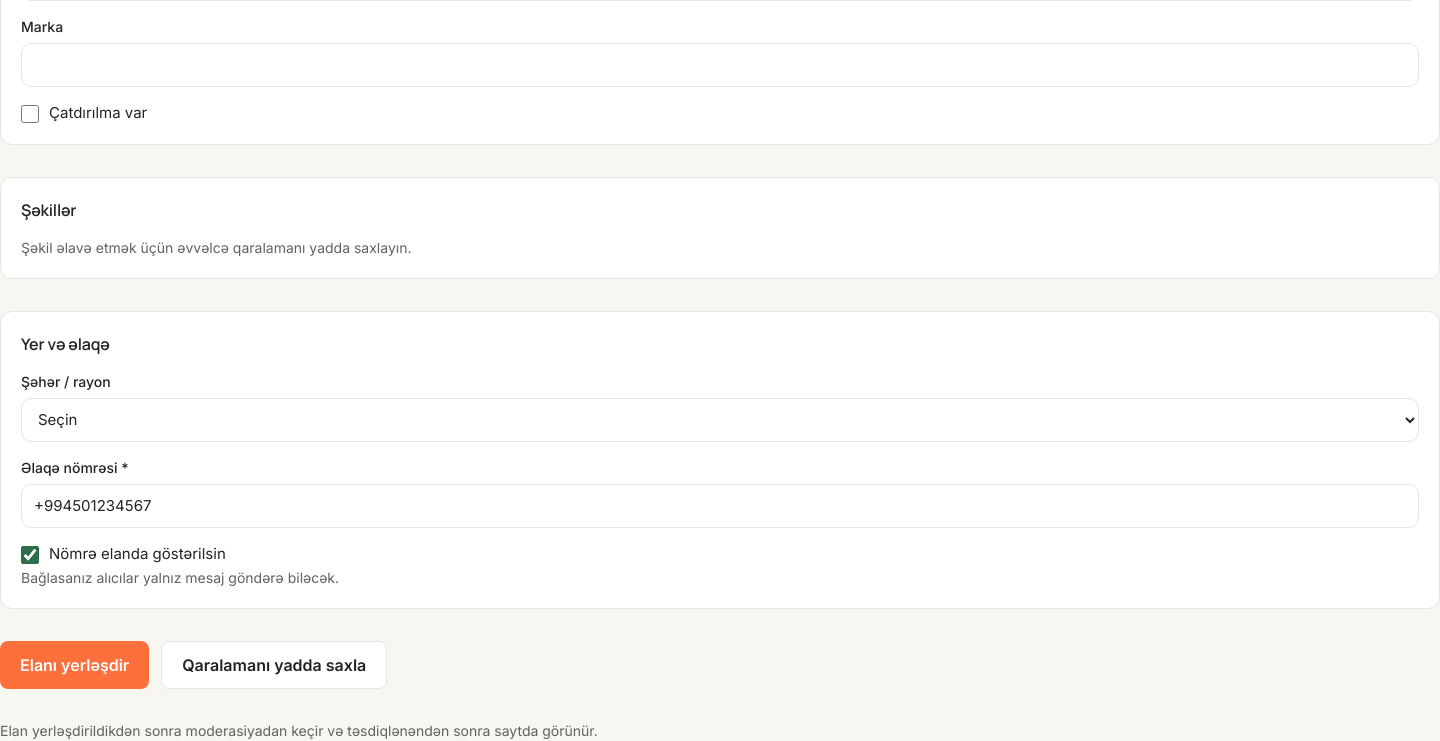
ListingForm › lands a server field error on the attribute it belongs to
(page scrolled)
Click the button "Qaralamanı yadda saxla".
click(274, 665)  # box x1=161 y1=641 x2=387 y2=689
(page scrolled)
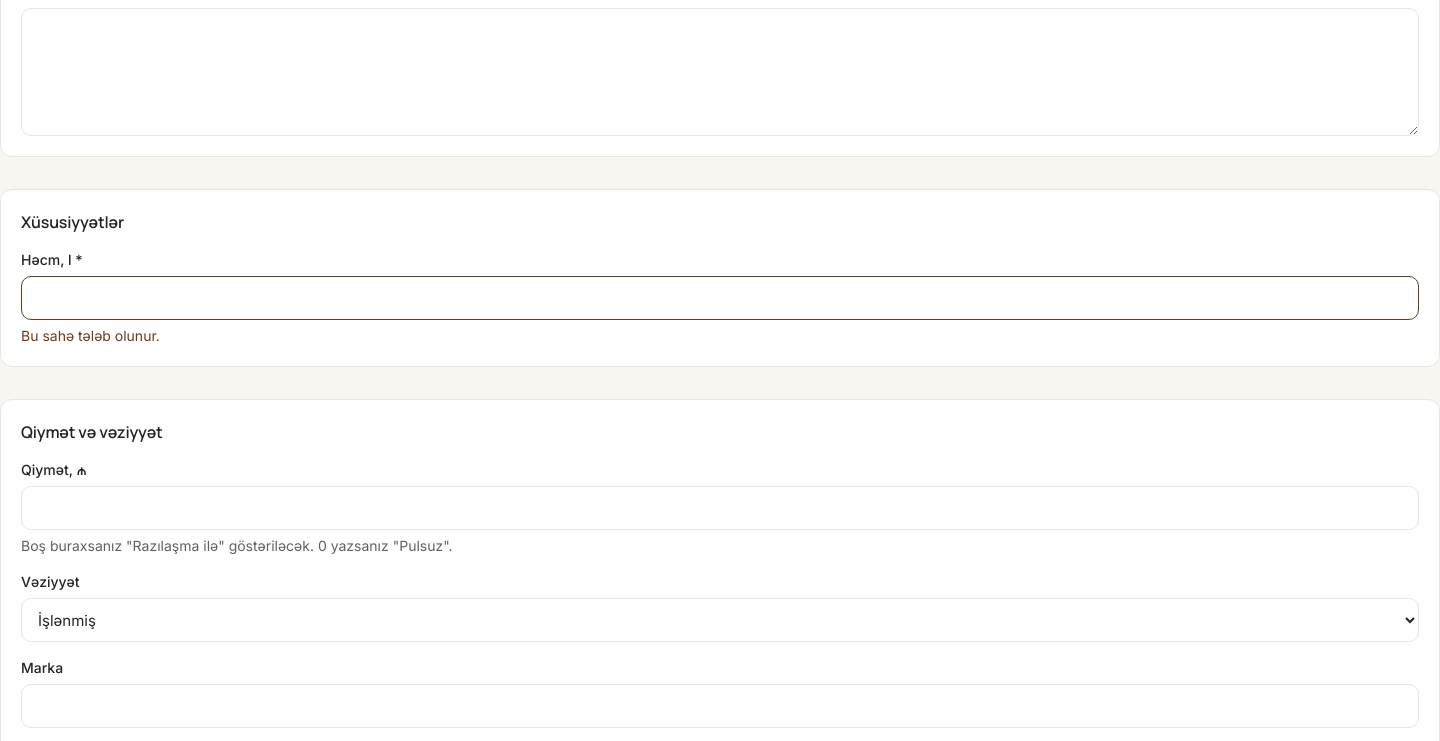
Result: the message reads "Bu sahə tələb olunur." at x1=21 y1=327 x2=160 y2=344
